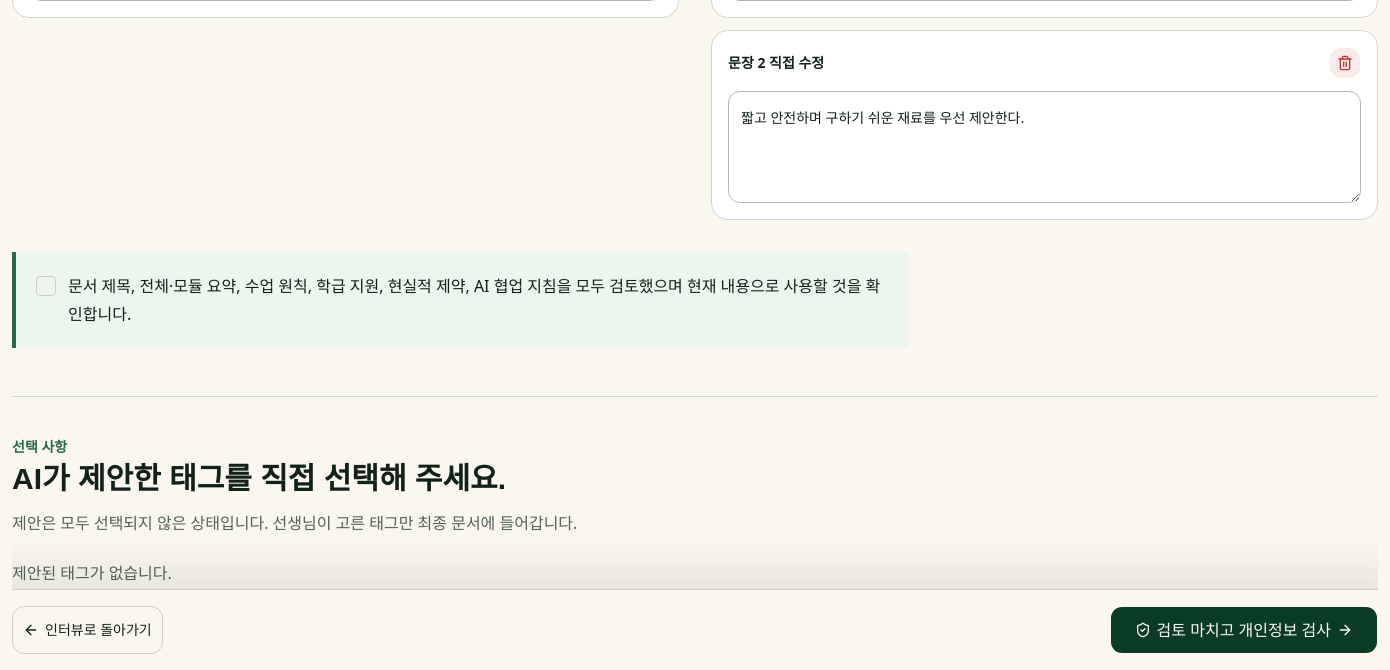
Scenario: ProfileReview final privacy check › keeps a request error on the review screen
(page scrolled)
Click the checkbox named "문서 제목, 전체·모듈 요약". click: [46, 286]
box: [36, 276, 56, 296]
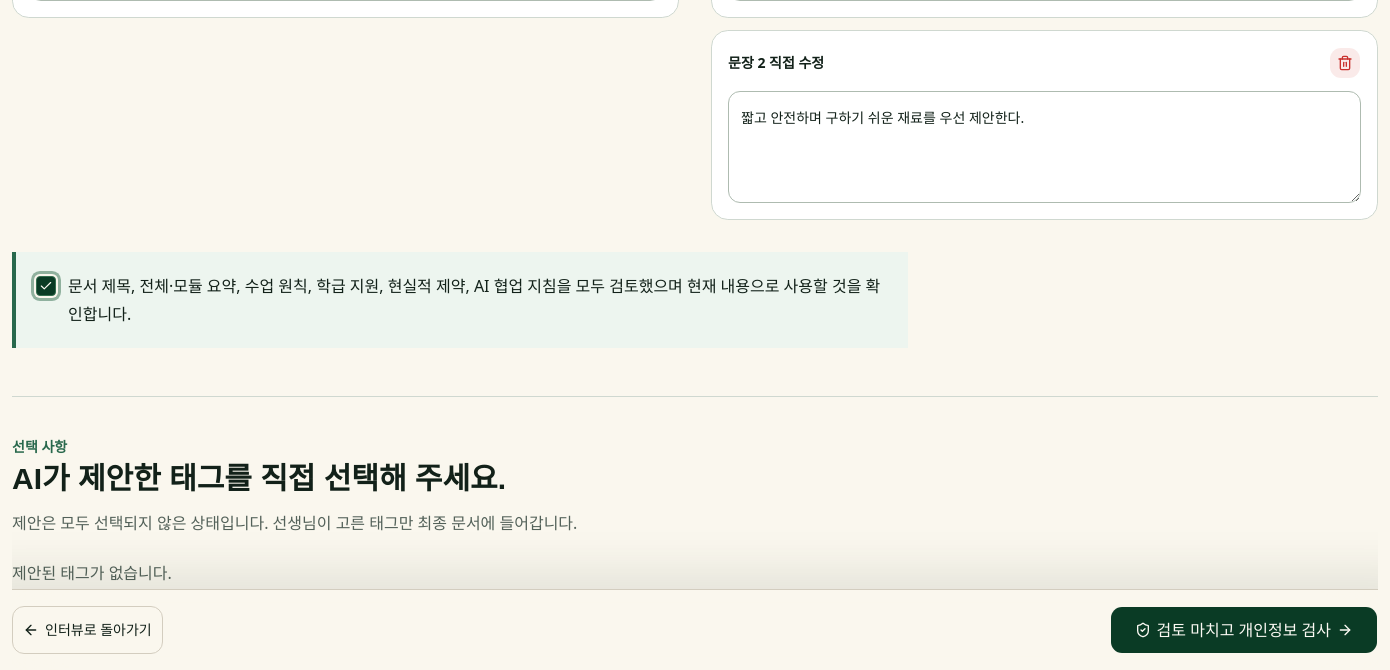
Click the button "검토 마치고 개인정보 검사". click: [1244, 630]
box: [1110, 606, 1378, 654]
(page scrolled)
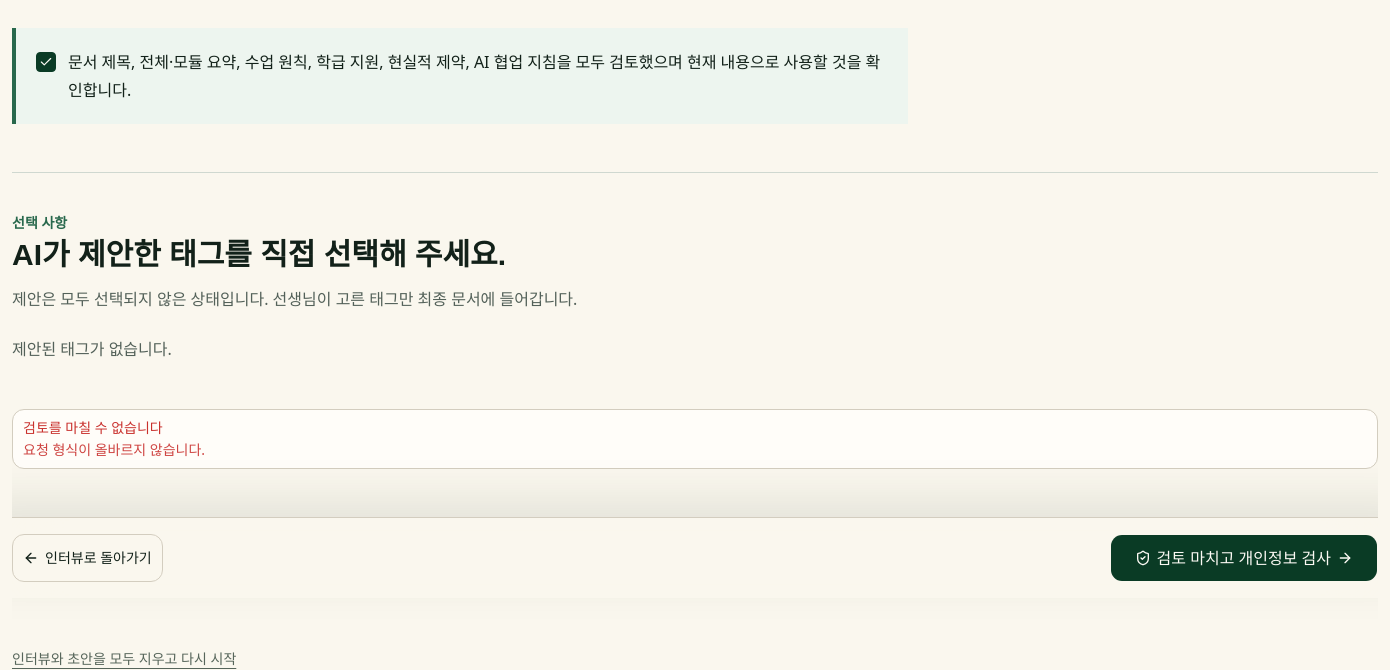
Now the text "요청 형식이 올바르지 않습니다." is shown, box [23, 440, 205, 459]
